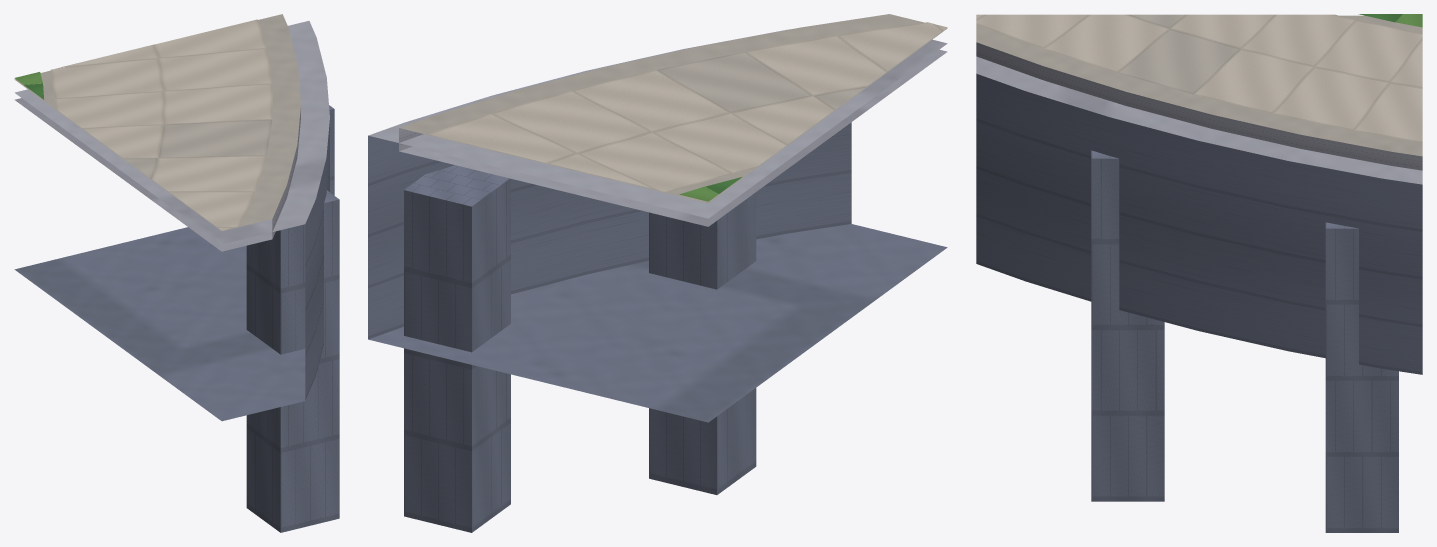
The model's file is high_crown_fracture_61.obj.
3 views of the same model, side by side, from view 1: azimuth 30°, elevation 25°; view 2: azimuth 150°, elevation 25°; view 3: azimuth 270°, elevation 25° (orthographic). The views are drawn at different scales.
Parts seen in each view (by area): view 1: ArenaFracture61; view 2: ArenaFracture61; view 3: ArenaFracture61.
Boxes of the visible parts, <box> form: ArenaFracture61: <box>14,14,339,532</box>; ArenaFracture61: <box>368,14,947,532</box>; ArenaFracture61: <box>976,14,1422,532</box>.
Size of the model in its own units: 8.21 by 9.83 by 10.
6 materials, 6 textured.
